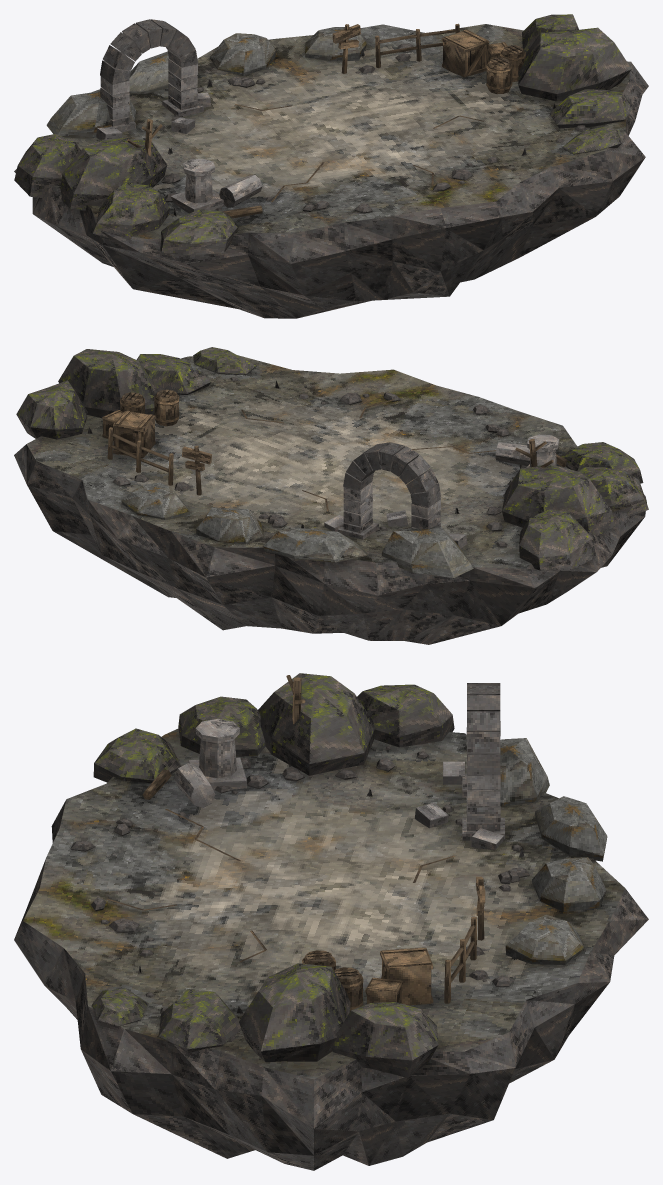
Rendered from floating_island.glb.
3 views of the same model, one above another, from view 1: azimuth 30°, elevation 25°; view 2: azimuth 150°, elevation 25°; view 3: azimuth 270°, elevation 25° (orthographic). The views are drawn at different scales.
Visible parts, largest first — view 1: Platform - fractured slate surface, Platform - broken cliff strata, Outcrop - left rim, Outcrop - right rim, Outcrop - back ridge, Ruin - weathered stone arch and fallen blocks, Ruin - snapped column and fallen shaft, Rubble - loose scree and pebbles, Supplies - large braced crate, Lookout - broken timber railing, Supplies - iron-banded barrel 2, Deadwood - bare snag and fallen limb (+2 smaller); view 2: Platform - fractured slate surface, Platform - broken cliff strata, Outcrop - left rim, Outcrop - right rim, Outcrop - back ridge, Ruin - weathered stone arch and fallen blocks, Rubble - loose scree and pebbles, Supplies - large braced crate, Ruin - snapped column and fallen shaft, Lookout - broken timber railing, Supplies - iron-banded barrel 2, Trail prop - weathered signpost (+2 smaller); view 3: Platform - fractured slate surface, Platform - broken cliff strata, Outcrop - right rim, Outcrop - left rim, Outcrop - back ridge, Ruin - weathered stone arch and fallen blocks, Ruin - snapped column and fallen shaft, Rubble - loose scree and pebbles, Supplies - large braced crate, Lookout - broken timber railing, Supplies - small crooked crate, Deadwood - bare snag and fallen limb (+1 smaller).
Part boxes in pixels (x1,y1,x2,y2): Platform - fractured slate surface: [53, 24, 630, 238]; Platform - broken cliff strata: [14, 62, 648, 318]; Outcrop - left rim: [14, 134, 237, 255]; Outcrop - right rim: [518, 14, 633, 154]; Outcrop - back ridge: [46, 27, 366, 138]; Ruin - weathered stone arch and fallen blocks: [96, 19, 210, 139]; Ruin - snapped column and fallen shaft: [170, 158, 262, 213]; Rubble - loose scree and pebbles: [128, 43, 586, 218]; Supplies - large braced crate: [442, 29, 489, 77]; Lookout - broken timber railing: [375, 23, 459, 68]; Supplies - iron-banded barrel 2: [486, 57, 512, 94]; Deadwood - bare snag and fallen limb: [127, 119, 262, 218]; Platform - fractured slate surface: [26, 355, 646, 568]; Platform - broken cliff strata: [14, 444, 646, 644]; Outcrop - left rim: [502, 442, 648, 570]; Outcrop - right rim: [16, 347, 255, 439]; Outcrop - back ridge: [121, 482, 473, 577]; Ruin - weathered stone arch and fallen blocks: [324, 442, 467, 548]; Rubble - loose scree and pebbles: [112, 374, 526, 547]; Supplies - large braced crate: [113, 410, 155, 457]; Ruin - snapped column and fallen shaft: [495, 434, 570, 469]; Lookout - broken timber railing: [107, 427, 173, 485]; Supplies - iron-banded barrel 2: [154, 389, 179, 426]; Trail prop - weathered signpost: [182, 445, 211, 495]; Platform - fractured slate surface: [23, 728, 625, 1079]; Platform - broken cliff strata: [14, 800, 648, 1170]; Outcrop - right rim: [92, 963, 438, 1077]; Outcrop - left rim: [93, 673, 454, 783]; Outcrop - back ridge: [500, 738, 607, 964]; Ruin - weathered stone arch and fallen blocks: [414, 683, 504, 850]; Ruin - snapped column and fallen shaft: [174, 718, 246, 807]; Rubble - loose scree and pebbles: [70, 746, 529, 1041]; Supplies - large braced crate: [380, 947, 433, 1005]; Lookout - broken timber railing: [444, 916, 476, 1003]; Supplies - small crooked crate: [365, 977, 403, 1003]; Deadwood - bare snag and fallen limb: [142, 675, 305, 799].
Bounding box in the file's own units: 24.62 × 10.08 × 17.15.
Materials: 2 (2 with a texture image).
